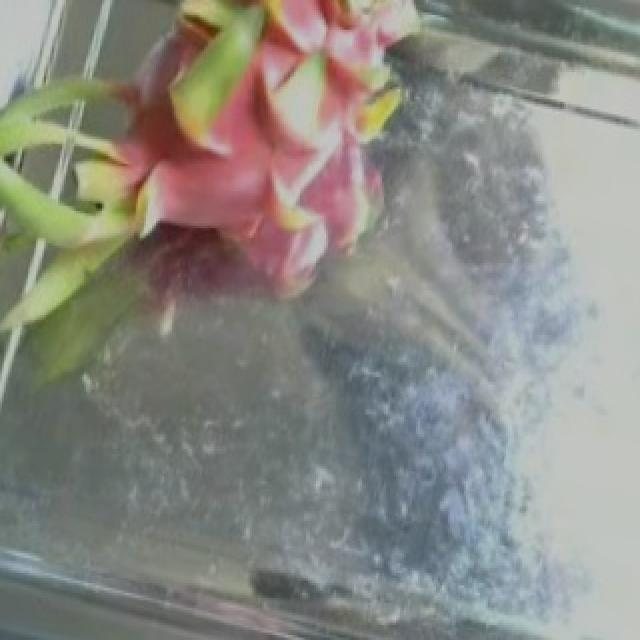fruit: (0, 0, 402, 389)
